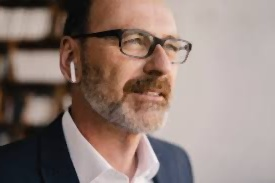earphone: (59, 36, 81, 83)
